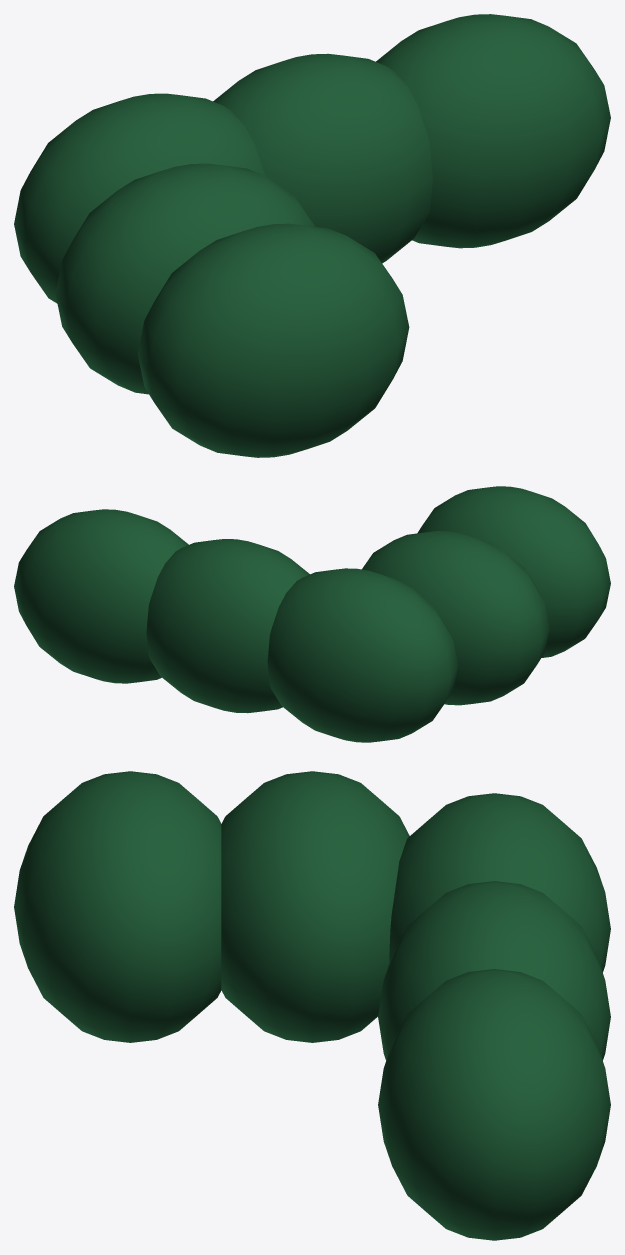
3 renders of one model, top to bottom at view 1: azimuth 30°, elevation 25°; view 2: azimuth 150°, elevation 25°; view 3: azimuth 270°, elevation 25°, orthographic. The views are drawn at different scales.
Parts seen in each view (by area): view 1: hedge-corner; view 2: hedge-corner; view 3: hedge-corner.
Boxes of the visible parts, x1,y1,x2,y2 form: hedge-corner: (14, 14, 610, 457); hedge-corner: (14, 486, 610, 742); hedge-corner: (14, 771, 610, 1240).
Size of the model in its own units: 1.52 by 0.504 by 1.15.
